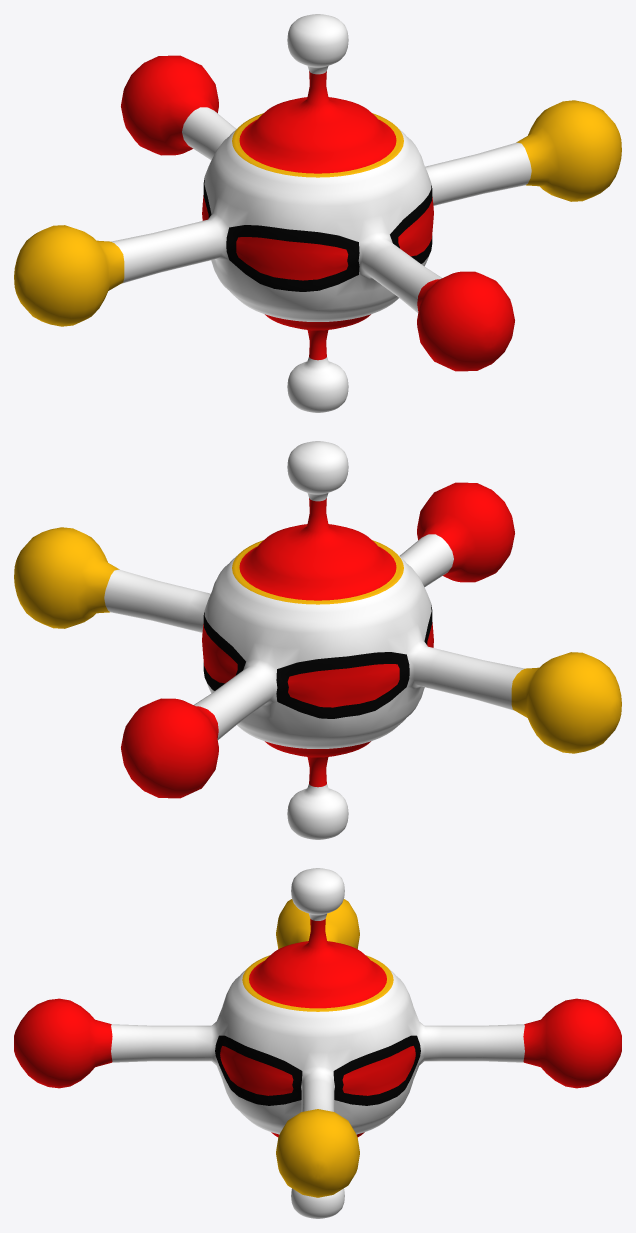
Rendered from Enemybomb.FBX.
3 renders of one model, top to bottom at view 1: azimuth 30°, elevation 25°; view 2: azimuth 150°, elevation 25°; view 3: azimuth 270°, elevation 25°, orthographic. The views are drawn at different scales.
Visible parts, largest first — view 1: Sphere003; view 2: Sphere003; view 3: Sphere003.
Boxes of the visible parts, box(x1,y1,x2,y2) form: Sphere003: box(14, 14, 621, 412); Sphere003: box(14, 441, 621, 839); Sphere003: box(14, 868, 621, 1218).
Size of what is drawn, in the model's own units: 5703 by 3569 by 5704.
